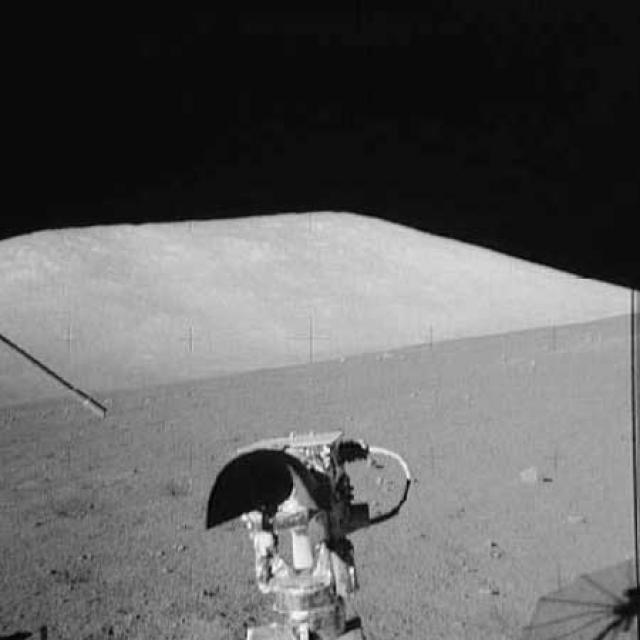artifact: (197, 424, 416, 638), (0, 330, 109, 421)
crater: (31, 469, 190, 519)
rock: (516, 458, 548, 489)
